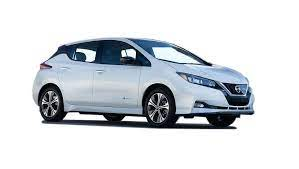Nissan: (34, 37, 254, 129)
